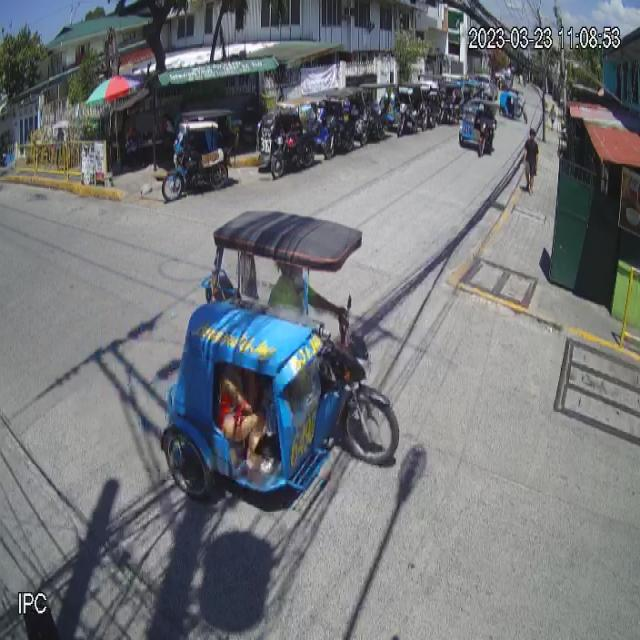Tricycle: (158, 208, 402, 507)
